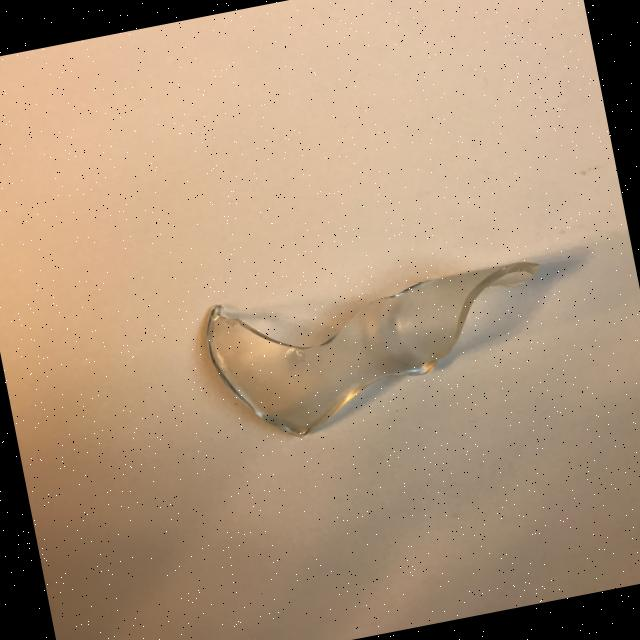glass: (198, 241, 564, 452)
